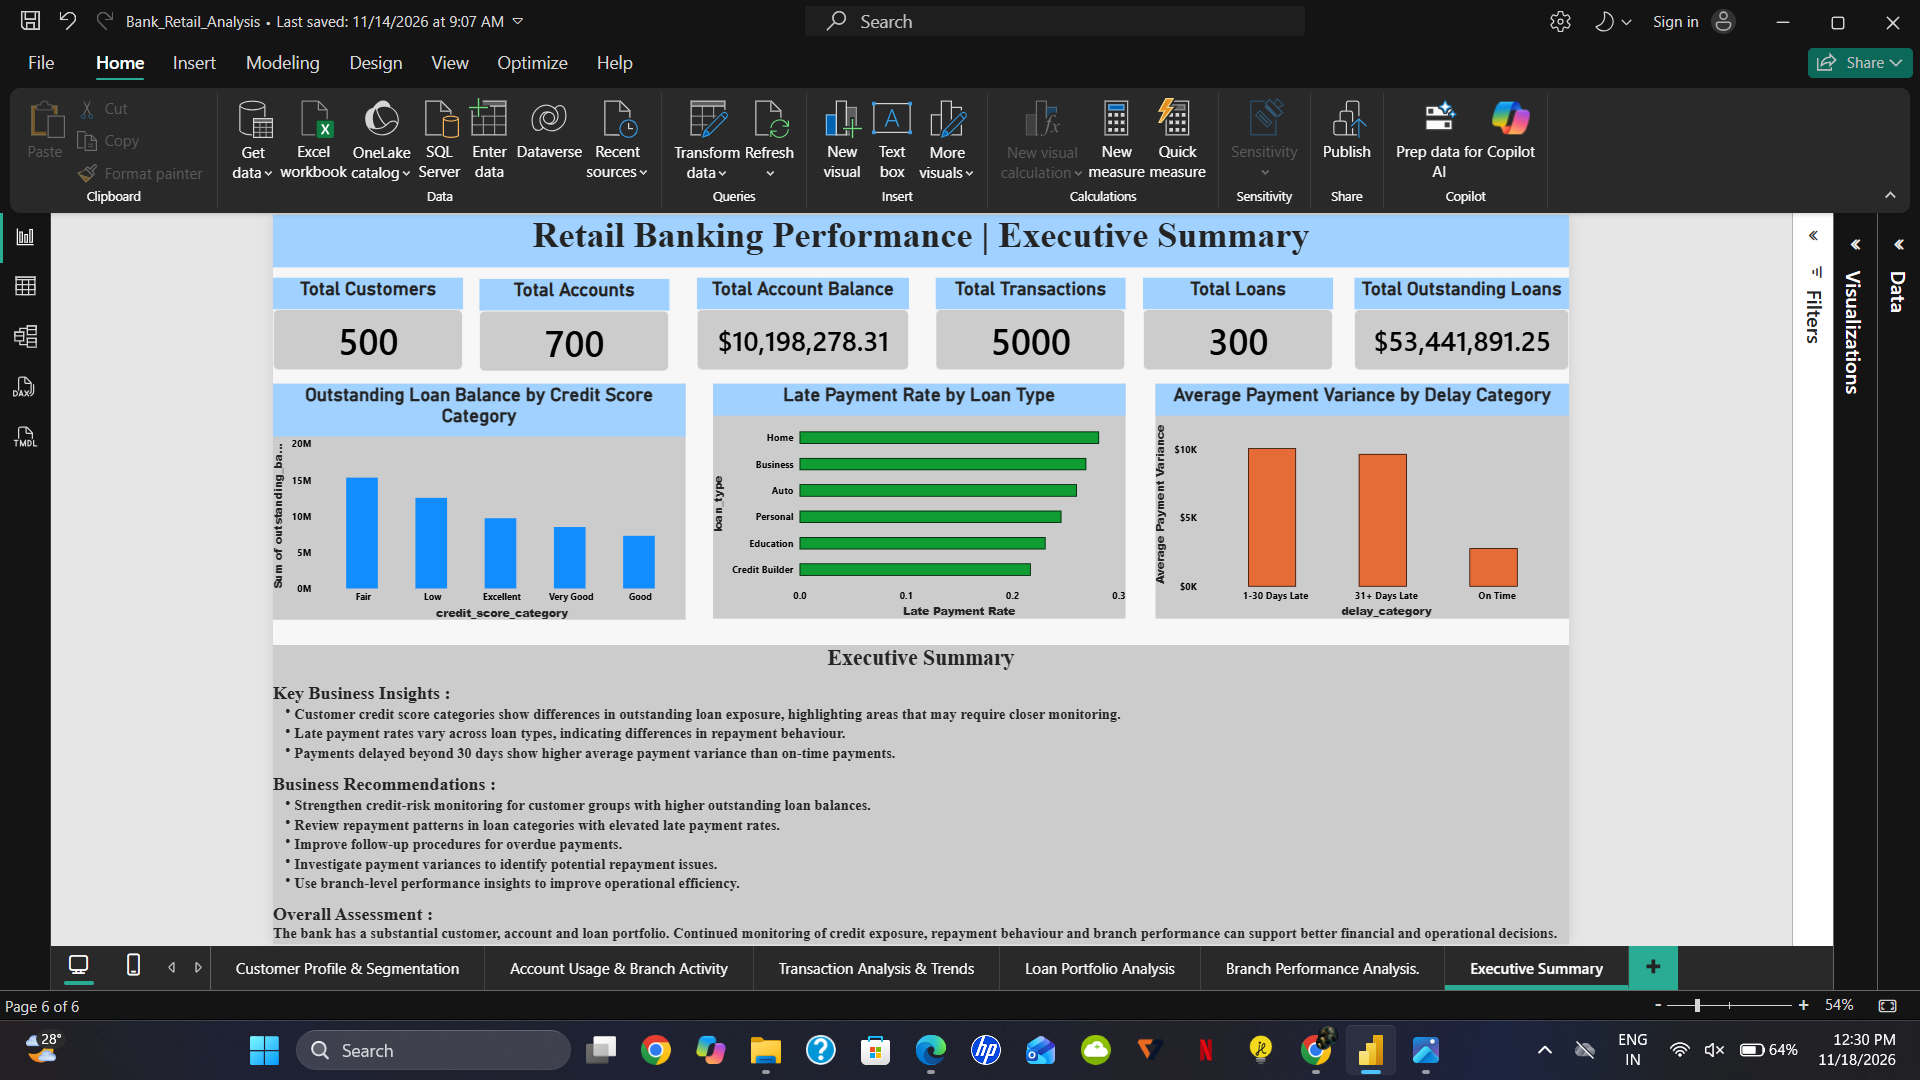

The dashboard page shown, as its layout file describes it:
{"tool":"powerbi","page":{"name":"Executive Summary","canvas":[1920,1080],"ordinal":5},"visuals":[{"type":"textbox","box":[0,0,1919.6,77.3],"z":0},{"type":"cardVisual","title":"Total Customers","fields":{"Data":["accounts.Total Customers"]},"box":[0,92,281.6,138],"z":1},{"type":"cardVisual","title":"Total Accounts","fields":{"Data":["accounts.Total Accounts"]},"box":[305.5,93.9,281.6,138],"z":2},{"type":"cardVisual","title":"Total Account Balance","fields":{"Data":["accounts.Total Account Balance"]},"box":[627.6,92,314.7,138],"z":3},{"type":"cardVisual","title":"Total Loans","fields":{"Data":["accounts.Total Loans"]},"box":[1288.4,92,281.6,138],"z":4},{"type":"cardVisual","title":"Total Transactions","fields":{"Data":["accounts.Total Transactions"]},"box":[981,92,281.6,138],"z":5},{"type":"cardVisual","title":"Total Outstanding Loans","fields":{"Data":["loans.Total_Outstanding_Loans"]},"box":[1601.2,92,318.4,138],"z":6},{"type":"clusteredColumnChart","title":"Outstanding Loan Balance by Credit Score Category","fields":{"Category":["customers.credit_score_category"],"Y":["Sum(loans.outstanding_balance)"]},"box":[0,250.3,611,349.7],"z":8},{"type":"clusteredBarChart","title":"Late Payment Rate by Loan Type","fields":{"Category":["loans.loan_type"],"Y":["accounts.Late Payment Rate"]},"box":[651.5,250.3,611,347.9],"z":9},{"type":"clusteredColumnChart","title":"Average Payment Variance by Delay Category","fields":{"Category":["loan_payments.delay_category"],"Y":["accounts.Average Payment Variance"]},"box":[1306.8,250.3,612.9,347.9],"z":10},{"type":"textbox","box":[0,636.8,1919.6,443.6],"z":11}]}

Visuals, with their boxes on the page's 1920x1080 design canvas (x1, y1, x2, y2). These are canvas units, not pixel positions in the 1920x1080 screenshot, which may show the page scaled, cropped or inside an application window:
textbox: crop(0, 0, 1920, 77)
"Total Customers" cardVisual: crop(0, 92, 282, 230)
"Total Accounts" cardVisual: crop(306, 94, 587, 232)
"Total Account Balance" cardVisual: crop(628, 92, 942, 230)
"Total Loans" cardVisual: crop(1288, 92, 1570, 230)
"Total Transactions" cardVisual: crop(981, 92, 1263, 230)
"Total Outstanding Loans" cardVisual: crop(1601, 92, 1920, 230)
"Outstanding Loan Balance by Credit Score Category" clusteredColumnChart: crop(0, 250, 611, 600)
"Late Payment Rate by Loan Type" clusteredBarChart: crop(652, 250, 1262, 598)
"Average Payment Variance by Delay Category" clusteredColumnChart: crop(1307, 250, 1920, 598)
textbox: crop(0, 637, 1920, 1080)
